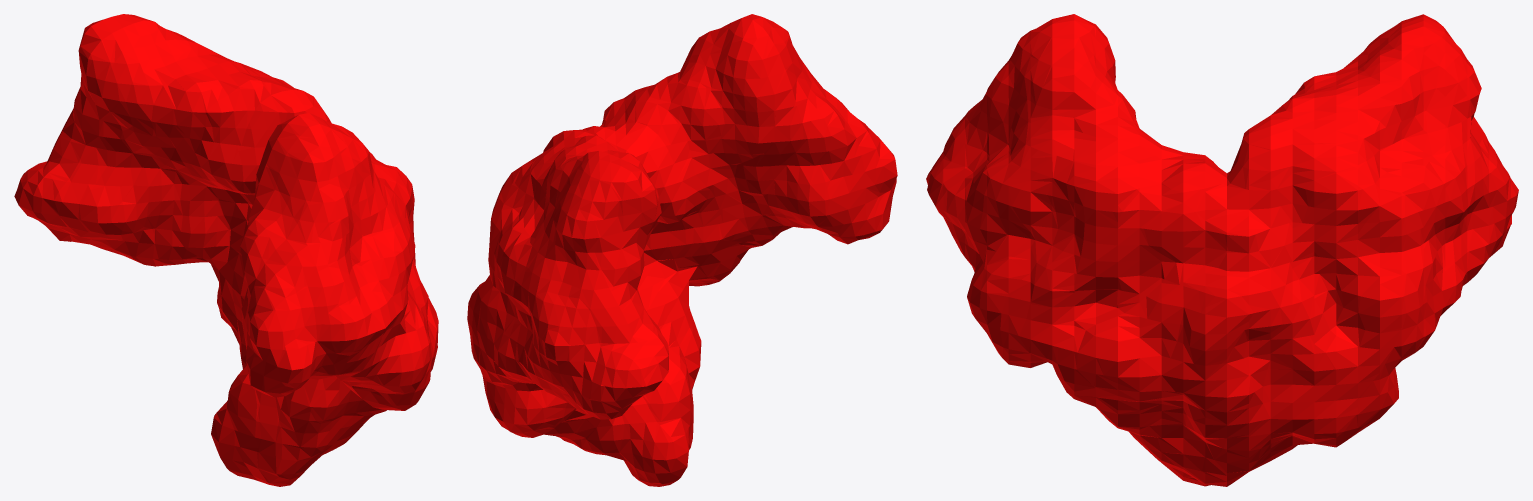
File: ftnA_coarse.dae
The picture shows the model from 3 angles, left to right: view 1: azimuth 30°, elevation 25°; view 2: azimuth 150°, elevation 25°; view 3: azimuth 270°, elevation 25°; orthographic projection. The views are drawn at different scales.
Parts seen in each view (by area): view 1: ftnA; view 2: ftnA; view 3: ftnA.
Part boxes in pixels (left/top/right/bottom): ftnA: left=14, top=14, right=438, bottom=486; ftnA: left=467, top=14, right=897, bottom=486; ftnA: left=926, top=14, right=1518, bottom=486.
Bounding box in the file's own units: 67.55 × 103 × 123.
